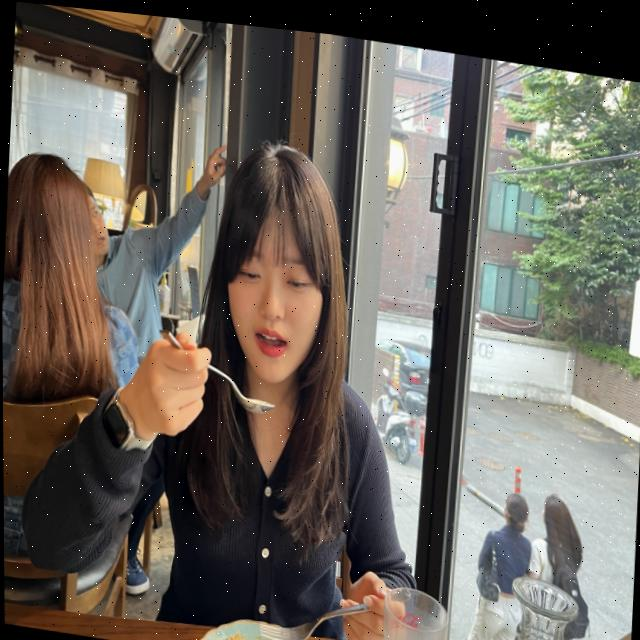eating-person: (10, 81, 448, 640)
